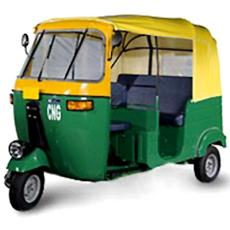auto: (1, 13, 230, 213)
